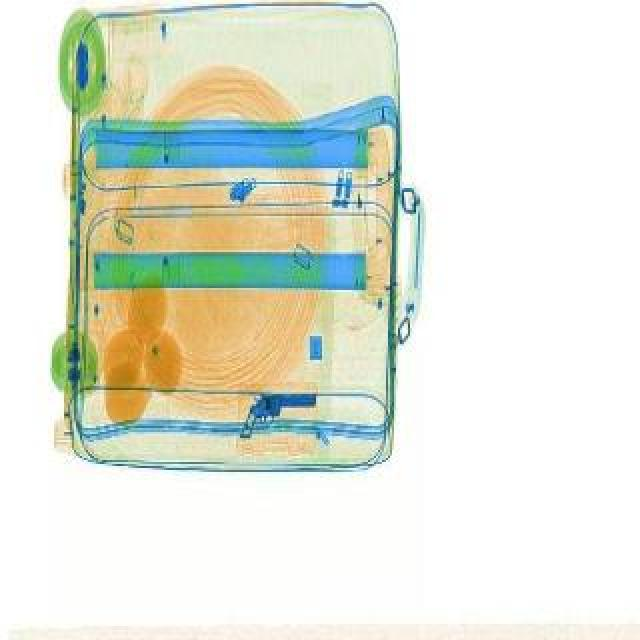gun: (240, 390, 318, 438)
